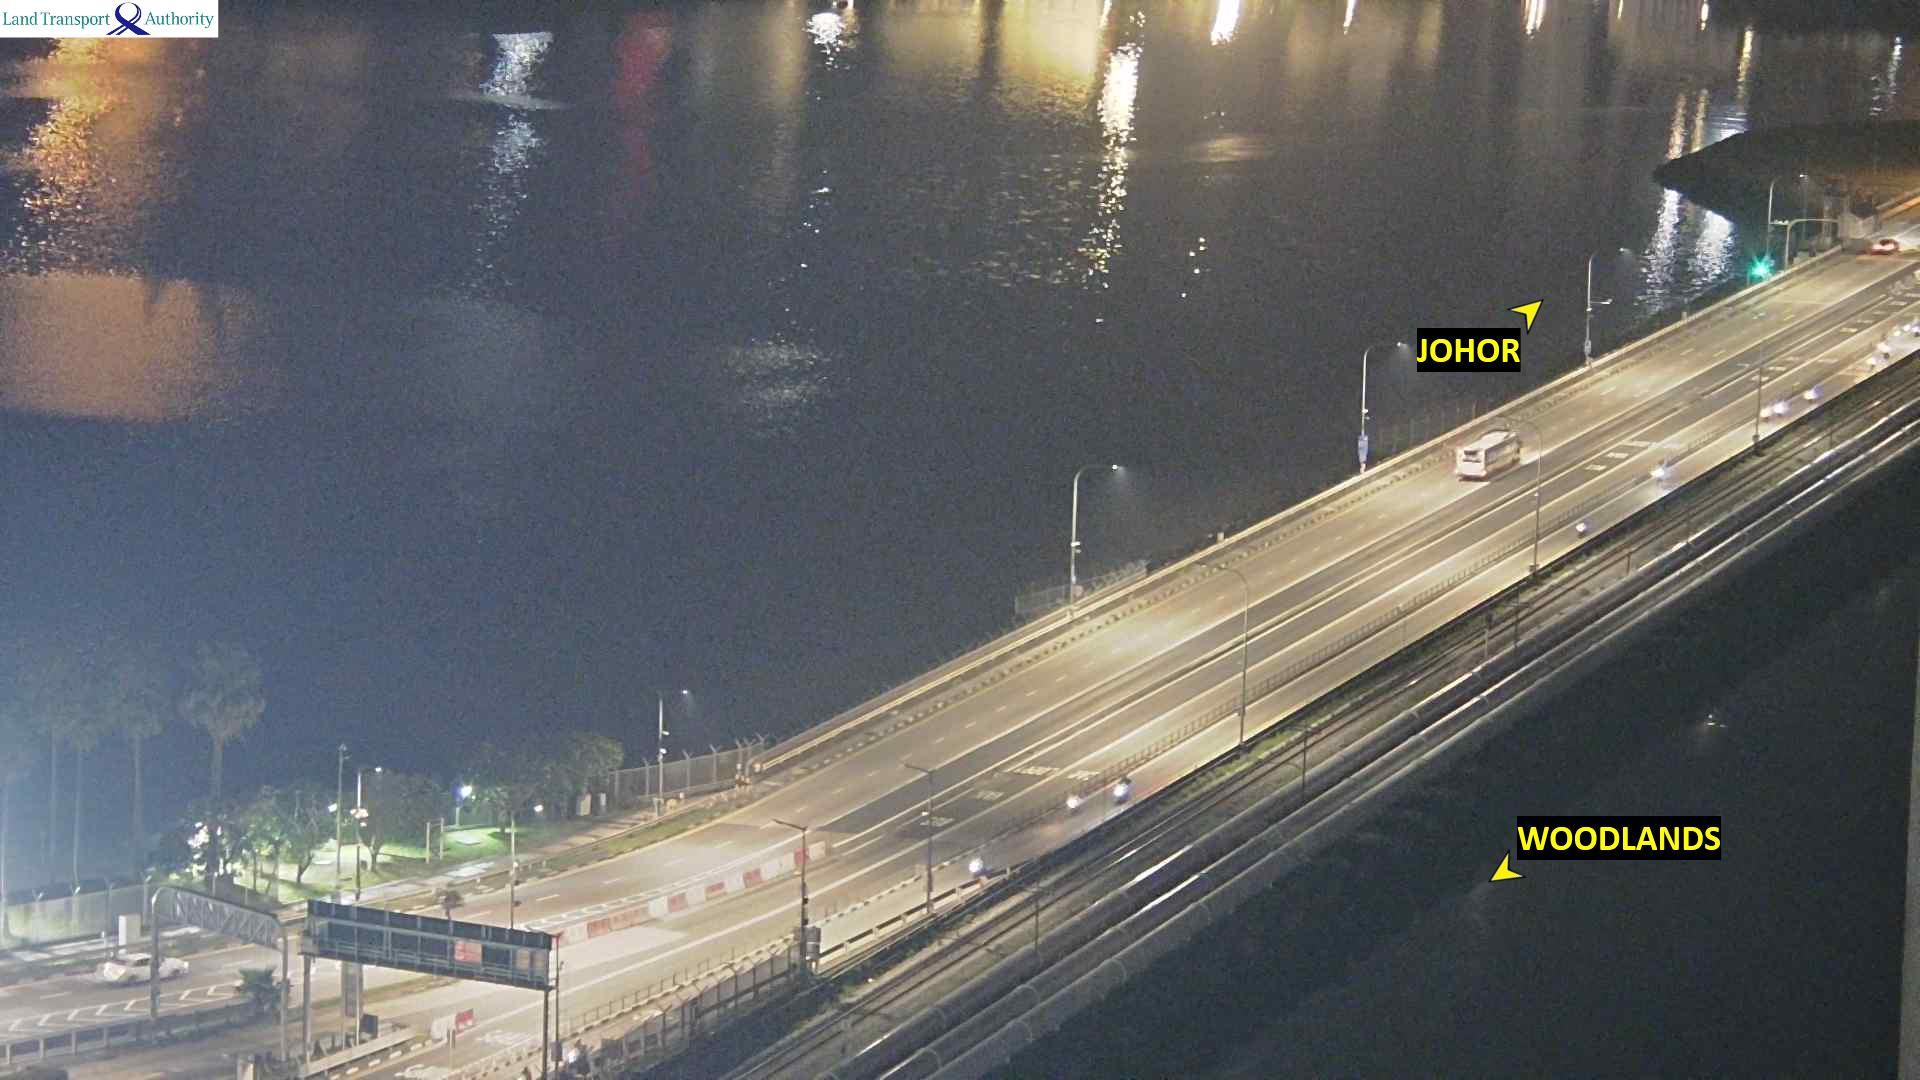vehicle-causeway-johor: (1455, 434, 1520, 485), (100, 953, 190, 982), (1113, 774, 1130, 803), (1871, 239, 1899, 255), (1067, 791, 1083, 814), (969, 855, 985, 876), (1805, 381, 1821, 402), (1575, 516, 1589, 538), (1655, 462, 1667, 485), (1776, 394, 1784, 417), (1882, 336, 1888, 360)
